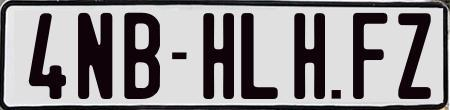4: (26, 10, 65, 96)
B: (124, 13, 164, 101)
F: (353, 13, 392, 103)
H: (200, 12, 233, 102), (293, 10, 324, 97)
L: (238, 12, 280, 101)
N: (77, 11, 112, 103)
Z: (396, 10, 432, 102)
